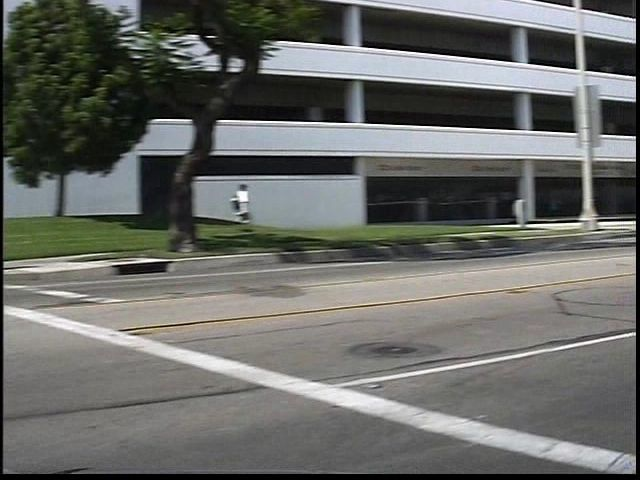person: (247, 177, 275, 241)
